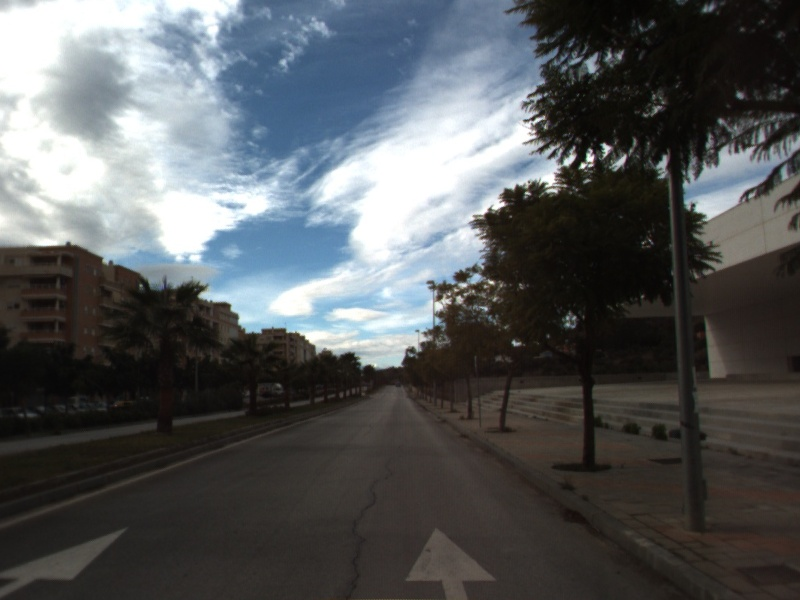STRAIGHT: (1, 525, 131, 600), (403, 525, 499, 600)
